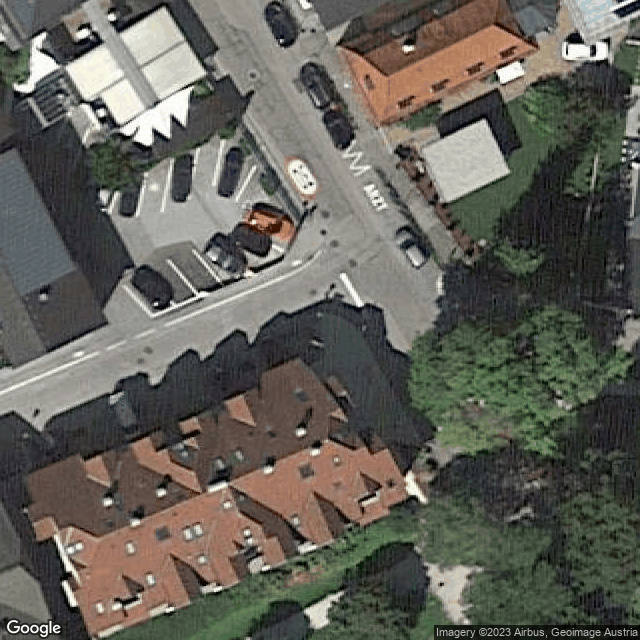dormer: (203, 485, 296, 585), (131, 408, 221, 493), (301, 493, 348, 545), (160, 553, 200, 606), (56, 527, 98, 573), (328, 411, 366, 450), (84, 450, 122, 487), (354, 471, 387, 513), (224, 391, 263, 426), (116, 574, 148, 610)
obstacles: (180, 520, 207, 544), (240, 526, 258, 548), (398, 41, 419, 57), (122, 539, 140, 557), (92, 598, 109, 616), (64, 542, 85, 556), (193, 551, 211, 567), (287, 511, 303, 528), (292, 425, 310, 440), (143, 570, 158, 587), (100, 495, 116, 510), (213, 456, 228, 471), (233, 448, 247, 464), (221, 498, 236, 511), (307, 446, 323, 458), (261, 463, 277, 475), (330, 453, 343, 467), (38, 292, 50, 306), (155, 486, 168, 498)
ridge: (97, 439, 329, 539), (387, 27, 494, 80), (1, 260, 48, 354)
roof: (24, 358, 410, 639), (337, 1, 539, 127), (1, 148, 109, 369), (66, 8, 206, 128), (420, 119, 509, 201), (1, 1, 90, 43), (566, 1, 640, 46)
valley: (340, 51, 385, 77), (493, 26, 537, 49), (375, 78, 388, 124), (31, 1, 39, 37), (494, 1, 501, 26)
